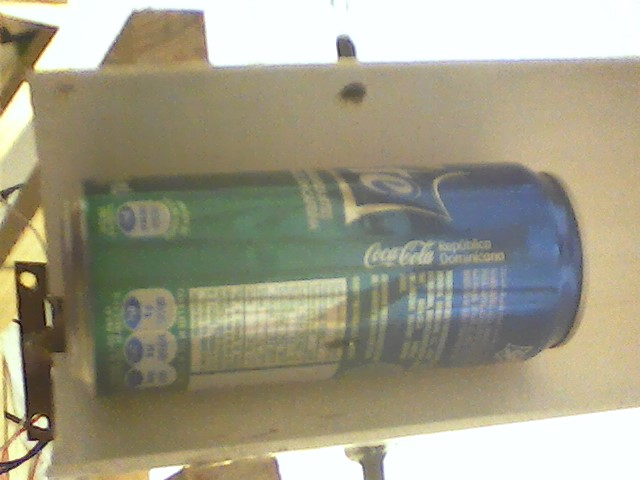lata: (55, 160, 594, 391)
